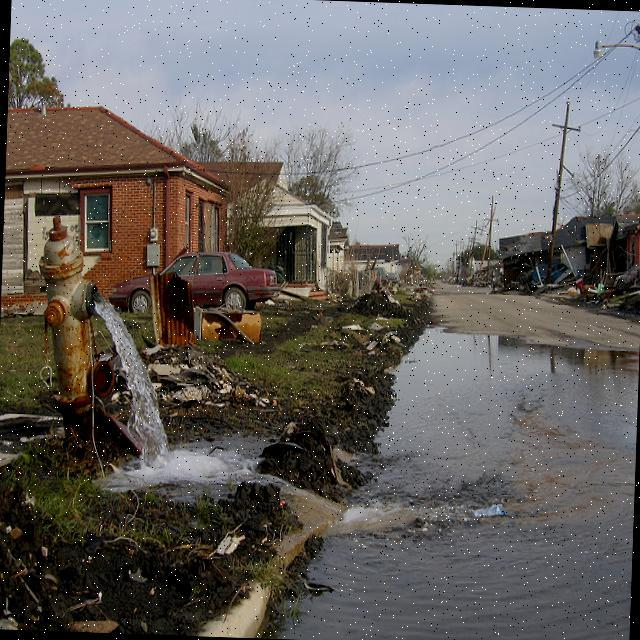fire_hydrant: (31, 210, 122, 436)
